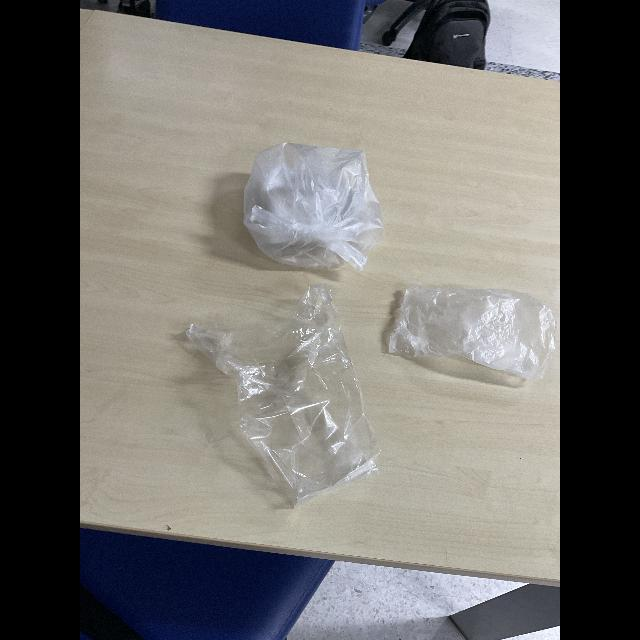plastic_bag: (171, 284, 393, 522), (235, 130, 382, 282)
